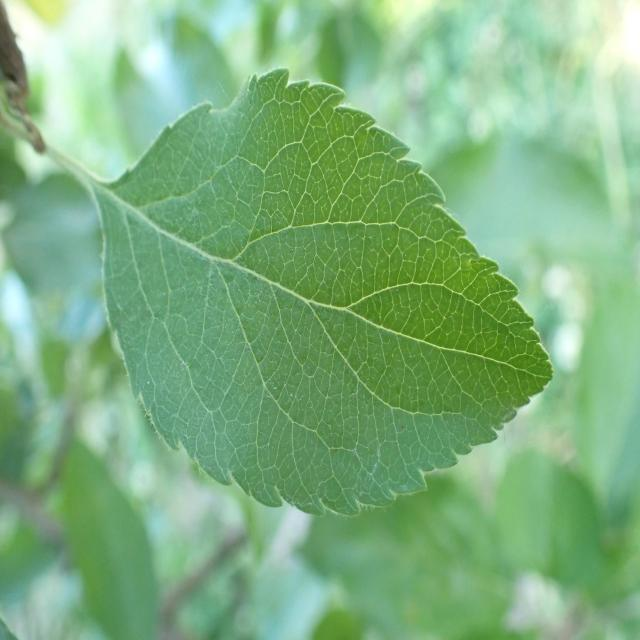healthy: (93, 67, 554, 517)
